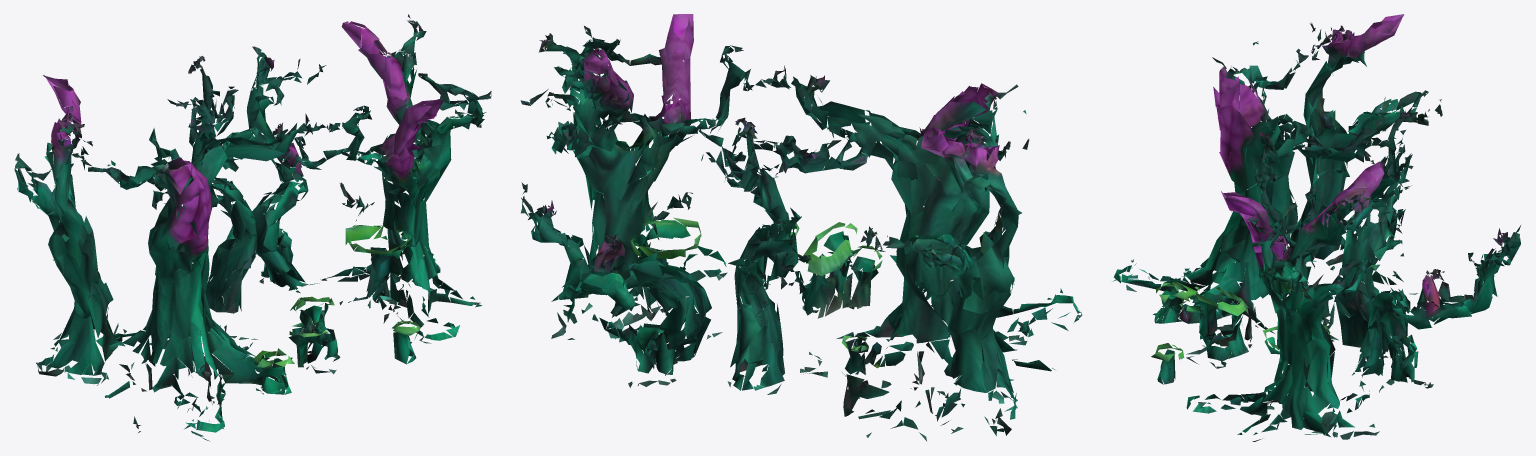
File: treeB.glb
3 views of the same model, side by side, from view 1: azimuth 30°, elevation 25°; view 2: azimuth 150°, elevation 25°; view 3: azimuth 270°, elevation 25° (orthographic). The views are drawn at different scales.
Parts seen in each view (by area): view 1: Mesh_0; view 2: Mesh_0; view 3: Mesh_0.
Boxes of the visible parts, x1,y1,x2,y2 form: Mesh_0: [14, 14, 491, 441]; Mesh_0: [520, 14, 1082, 441]; Mesh_0: [1112, 14, 1520, 441].
Size of the model in its own units: 1.74 by 1.19 by 1.45.
Materials: 1 (1 with a texture image).
